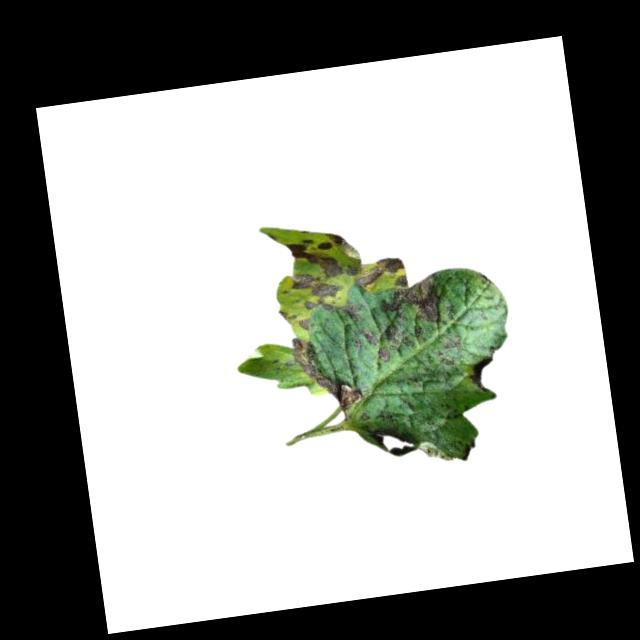Early_blight: (271, 220, 409, 308), (291, 330, 364, 418), (379, 276, 444, 342), (465, 355, 499, 393), (335, 298, 360, 321), (362, 328, 378, 346), (373, 347, 389, 362)
